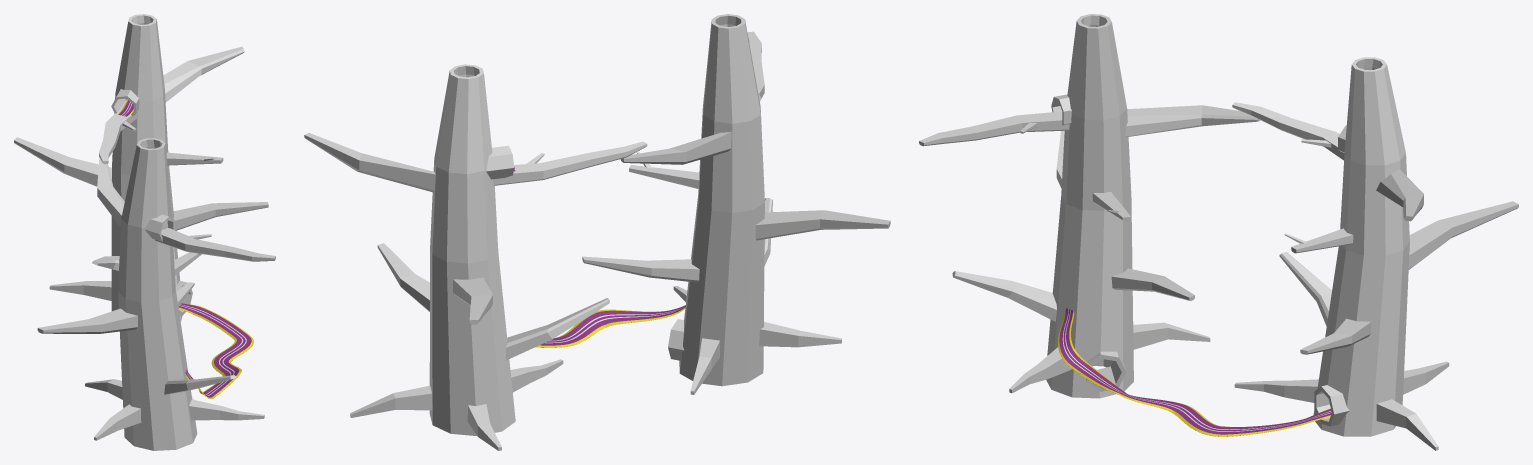
The model's file is oak-highway-002.fbx.
3 views of the same model, side by side, from view 1: azimuth 30°, elevation 25°; view 2: azimuth 150°, elevation 25°; view 3: azimuth 270°, elevation 25° (orthographic). The views are drawn at different scales.
Visible parts, largest first — view 1: Exit Tree, Entry Tree, Road_Segment.001; view 2: Entry Tree, Exit Tree, Road_Segment.001; view 3: Entry Tree, Exit Tree, Road_Segment.001.
Part boxes in pixels (x1,y1,x2,y2): Exit Tree: (37, 138, 275, 450); Entry Tree: (14, 14, 268, 321); Road_Segment.001: (178, 303, 253, 398); Entry Tree: (304, 64, 647, 450); Exit Tree: (582, 14, 890, 394); Road_Segment.001: (535, 305, 685, 347); Entry Tree: (1232, 57, 1518, 450); Exit Tree: (919, 14, 1260, 398); Road_Segment.001: (1058, 308, 1331, 436).
Bounding box in the file's own units: 7414 × 6307 × 9191.
